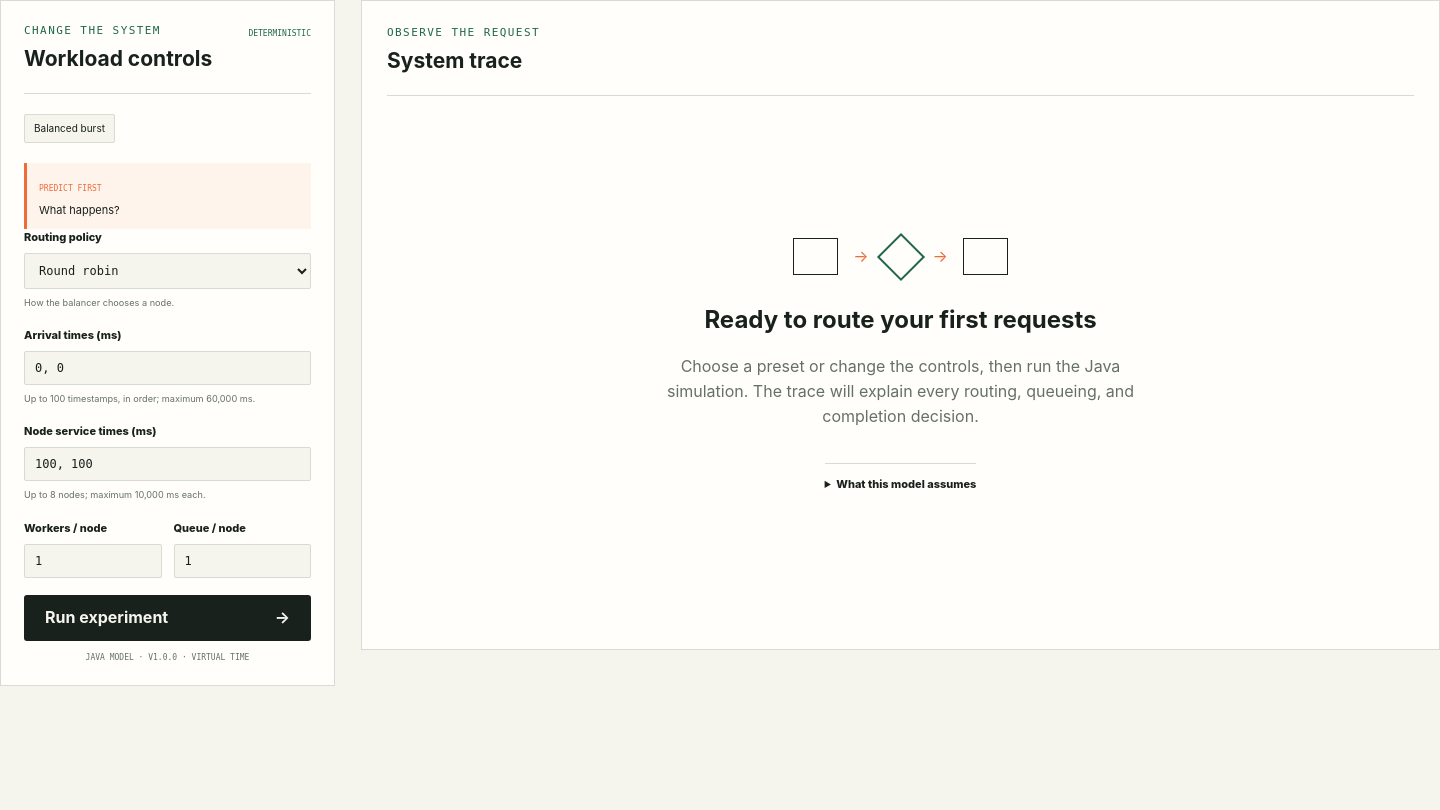
Test: Request flow playground › sends controls to Java and renders its trace and metrics
The width and height of the screenshot is (1440, 810).
Click the button "Run experiment →" at coordinates (168, 618), box [24, 595, 311, 641]
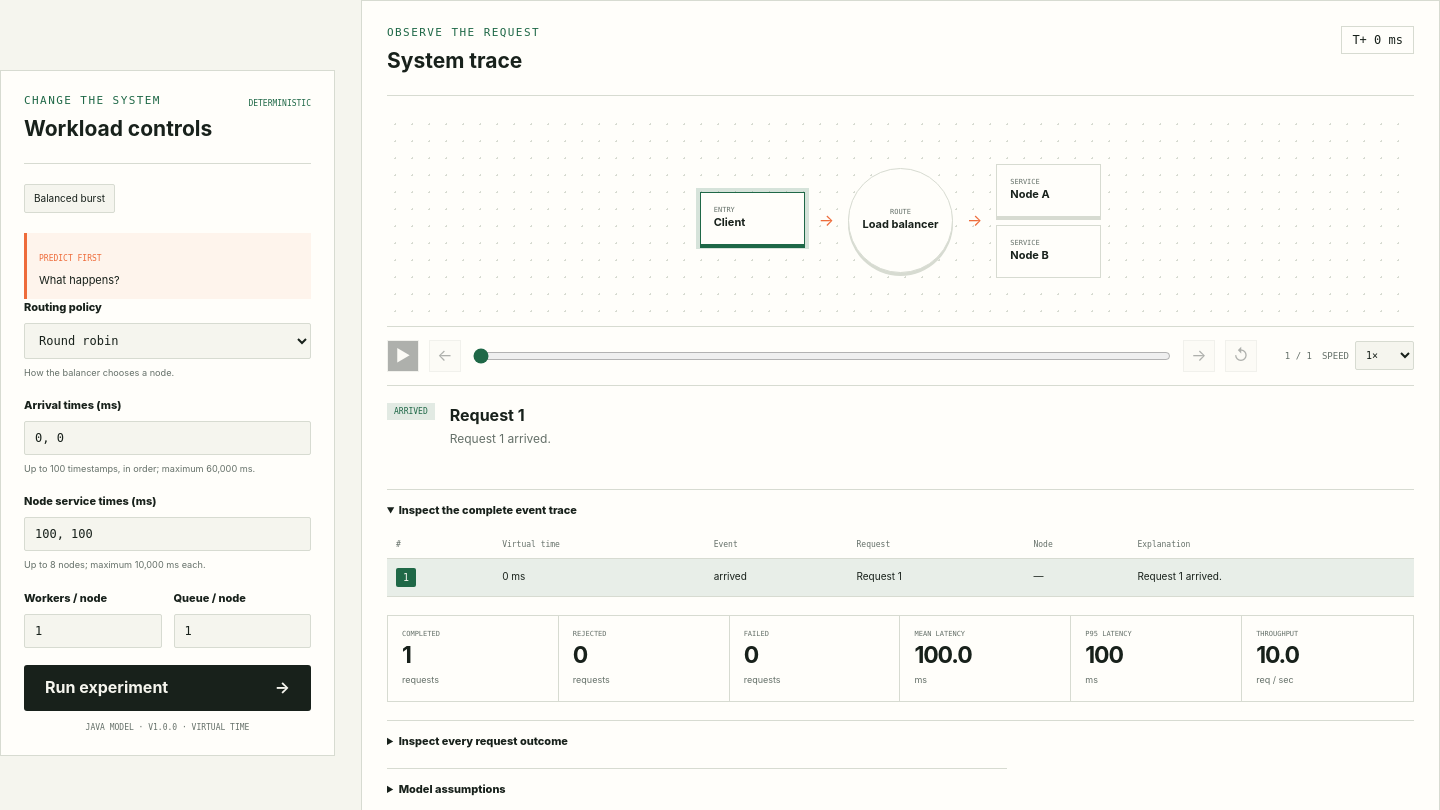
Result: the text "Request 1 arrived." is shown at [450, 430, 551, 449]
Result: the text "10.0" is shown at [1256, 641, 1299, 669]
Result: the button named "Play trace" is disabled at [387, 340, 419, 372]
Replace the text in the field labelled "Node service times" with "100, 100, 100" at coordinates (168, 534), box [24, 517, 311, 551]
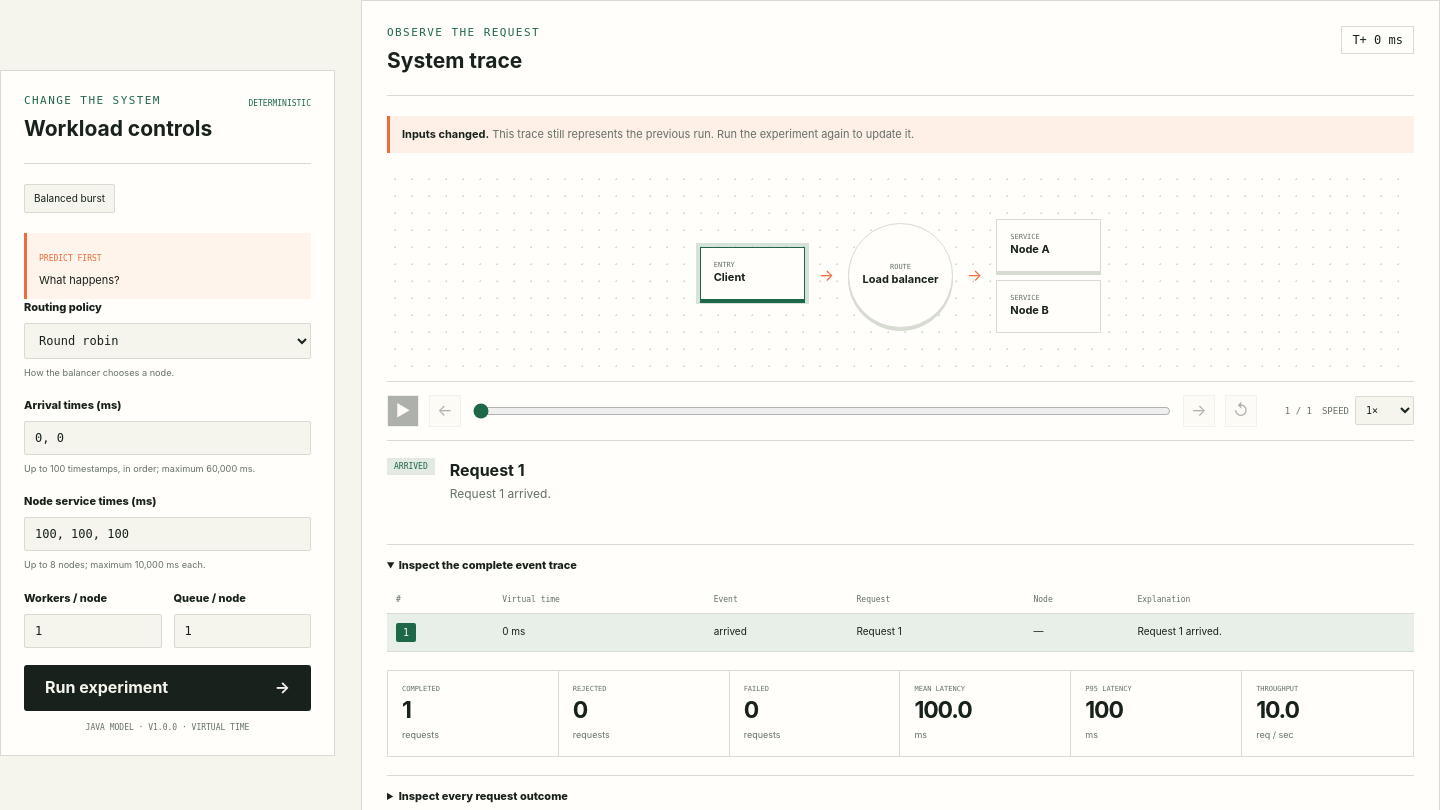
Result: the text "This trace still represents" is shown at [489, 126, 914, 140]
